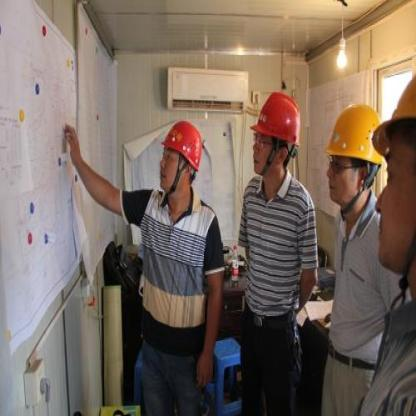helmet: (374, 67, 416, 283), (324, 96, 384, 219), (252, 89, 305, 184), (158, 118, 206, 191)
